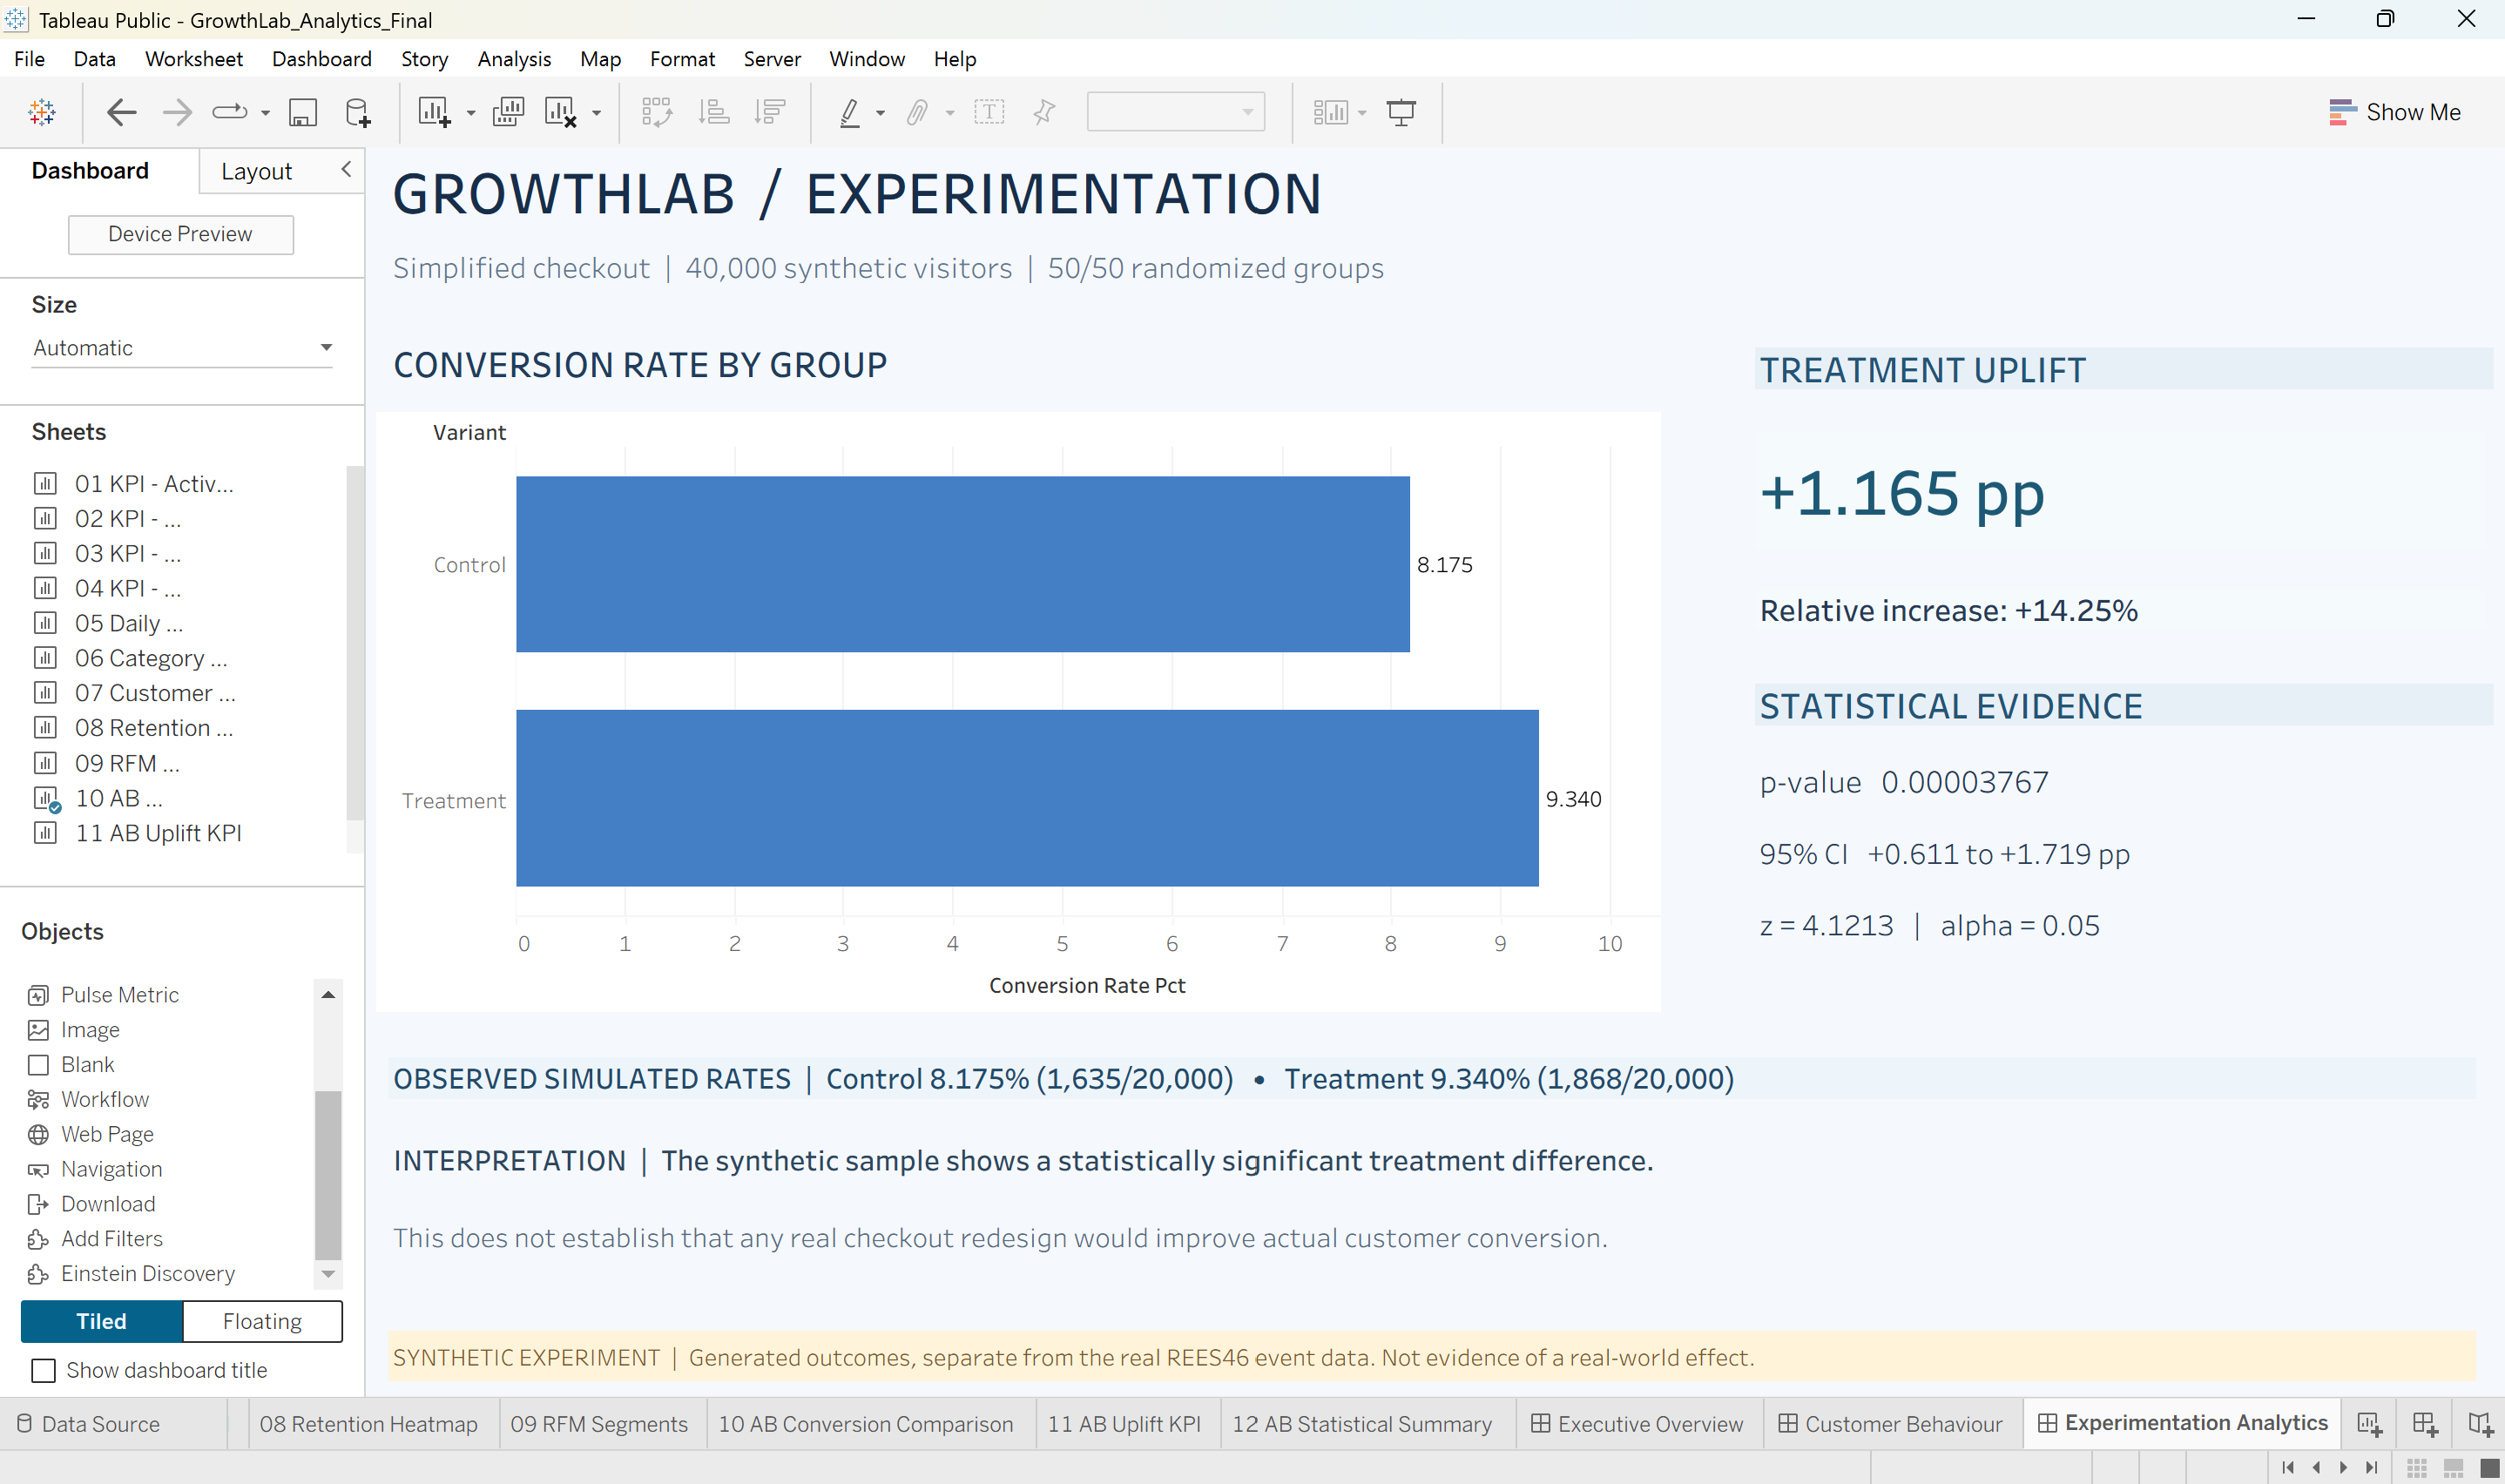

Layout of this report page (visuals, bound fields, positions):
{"tool":"tableau","page":{"name":"Experimentation Analytics","canvas":[1000,1000],"units":"permille","ordinal":2},"visuals":[{"type":"text","box":[3.1,0,994.8,70.2]},{"type":"text","box":[4.2,74.4,988.5,45.1]},{"type":"text","box":[4.2,147.8,585.2,50.3]},{"type":"text","box":[641.6,148.8,358.4,56.6]},{"type":"worksheet","title":"10 AB Conversion Comparison","mark":"Bar","rows":["variant"],"cols":["conversion_rate_pct"],"box":[0,204.4,609.2,497.9]},{"type":"text","box":[641.6,215.9,355.3,117.4]},{"type":"text","box":[641.6,343.8,355.3,54.5]},{"type":"text","box":[641.6,419.3,358.4,55.6]},{"type":"text","box":[641.6,483.2,355.3,49.3]},{"type":"text","box":[641.6,539.8,355.3,49.3]},{"type":"text","box":[641.6,597.5,355.3,49.3]},{"type":"text","box":[4.2,718,987.5,55.6]},{"type":"text","box":[4.2,785.1,987.5,53.5]},{"type":"text","box":[4.2,849.1,987.5,48.2]},{"type":"text","box":[4.2,937.1,987.5,62.9]}]}

Visuals, with their boxes on the dashboard's canvas, which has no fixed pixel size, in thousandths of its width and height (x1, y1, x2, y2). These are canvas units, not pixel positions in the 2505x1484 screenshot, which may show the page scaled, cropped or inside an application window:
text: <region>3, 0, 998, 70</region>
text: <region>4, 74, 993, 120</region>
text: <region>4, 148, 589, 198</region>
text: <region>642, 149, 1000, 205</region>
"10 AB Conversion Comparison" worksheet (Bar marks): <region>0, 204, 609, 702</region>
text: <region>642, 216, 997, 333</region>
text: <region>642, 344, 997, 398</region>
text: <region>642, 419, 1000, 475</region>
text: <region>642, 483, 997, 532</region>
text: <region>642, 540, 997, 589</region>
text: <region>642, 598, 997, 647</region>
text: <region>4, 718, 992, 774</region>
text: <region>4, 785, 992, 839</region>
text: <region>4, 849, 992, 897</region>
text: <region>4, 937, 992, 1000</region>
